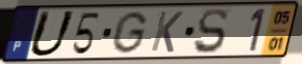1: (248, 7, 266, 54)
5: (71, 11, 102, 56)
G: (109, 10, 150, 56)
K: (149, 10, 186, 54)
S: (191, 7, 229, 56)
U: (26, 10, 79, 59)
